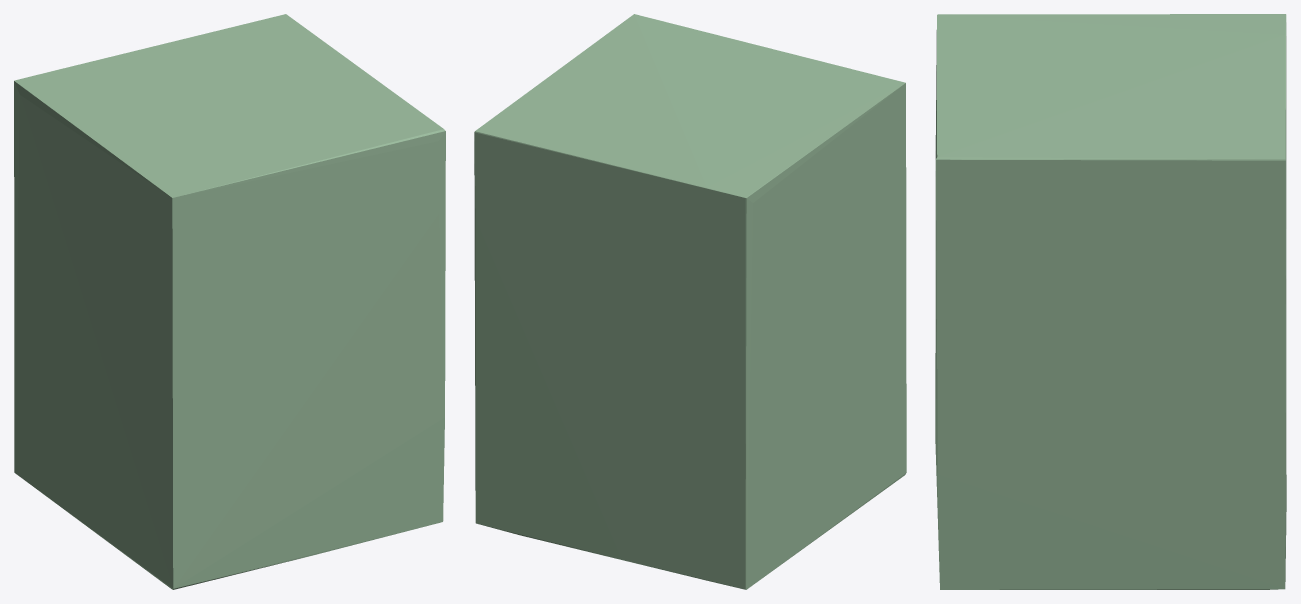
File: box_corrugated_white_b22.glb
3 renders of one model, left to right at view 1: azimuth 30°, elevation 25°; view 2: azimuth 150°, elevation 25°; view 3: azimuth 270°, elevation 25°, orthographic. The views are drawn at different scales.
Visible parts, largest first — view 1: geometry_0; view 2: geometry_0; view 3: geometry_0.
Boxes of the visible parts, box(x1,y1,x2,y2) form: geometry_0: box(14, 14, 445, 589); geometry_0: box(474, 14, 906, 589); geometry_0: box(935, 14, 1286, 589).
Size of the model in its own units: 0.3469 by 0.4795 by 0.3519.
